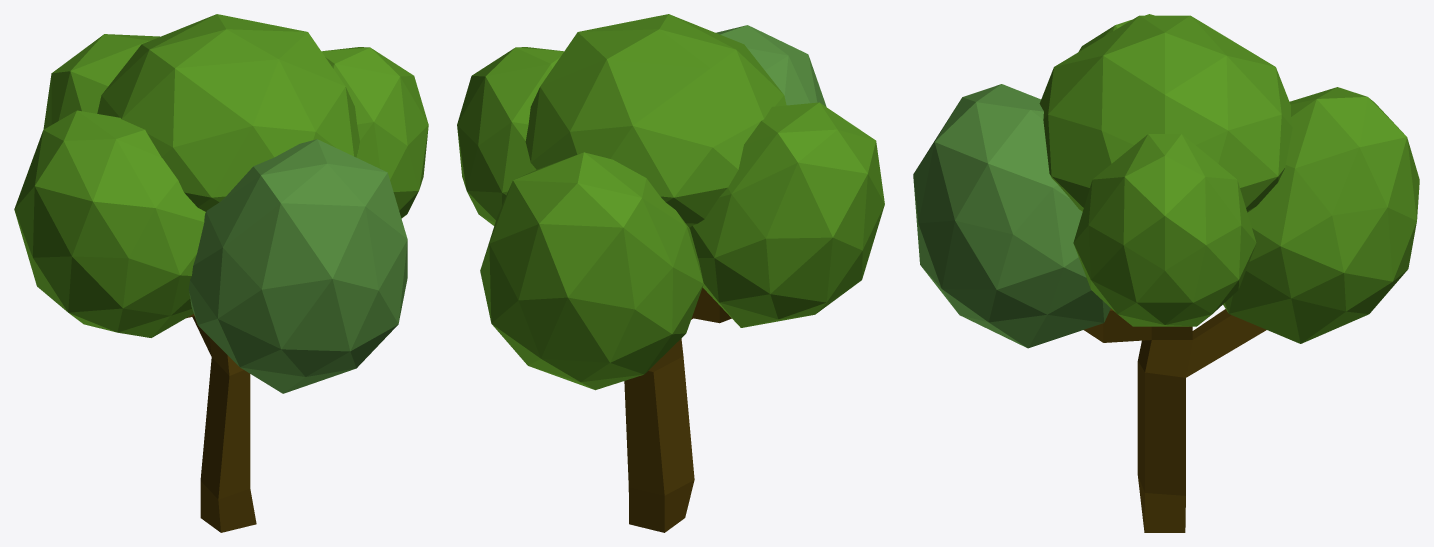
Rendered from leafy_tree_-_low_poly.glb.
3 renders of one model, left to right at view 1: azimuth 30°, elevation 25°; view 2: azimuth 150°, elevation 25°; view 3: azimuth 270°, elevation 25°, orthographic.
Parts seen in each view (by area): view 1: Icosphere.004, Icosphere.002, Icosphere, Icosphere.001, Cube, Icosphere.003; view 2: Icosphere.003, Icosphere, Icosphere.002, Cube, Icosphere.001, Icosphere.004; view 3: Icosphere.004, Icosphere.003, Icosphere, Icosphere.001, Cube.
Boxes of the visible parts, x1,y1,x2,y2 form: Icosphere.004: (188,139,407,393); Icosphere.002: (14,110,205,337); Icosphere: (97,14,359,211); Icosphere.001: (321,47,428,218); Cube: (186,314,256,532); Icosphere.003: (43,34,159,129); Icosphere.003: (480,152,703,390); Icosphere: (525,14,786,227); Icosphere.002: (689,102,884,327); Cube: (624,287,731,532); Icosphere.001: (457,47,563,225); Icosphere.004: (716,25,826,106); Icosphere.004: (913,84,1110,348); Icosphere.003: (1223,87,1419,343); Icosphere: (1039,15,1292,212); Icosphere.001: (1073,134,1256,326); Cube: (1084,308,1266,532).
Bounding box in the file's own units: 761 × 920 × 861.
